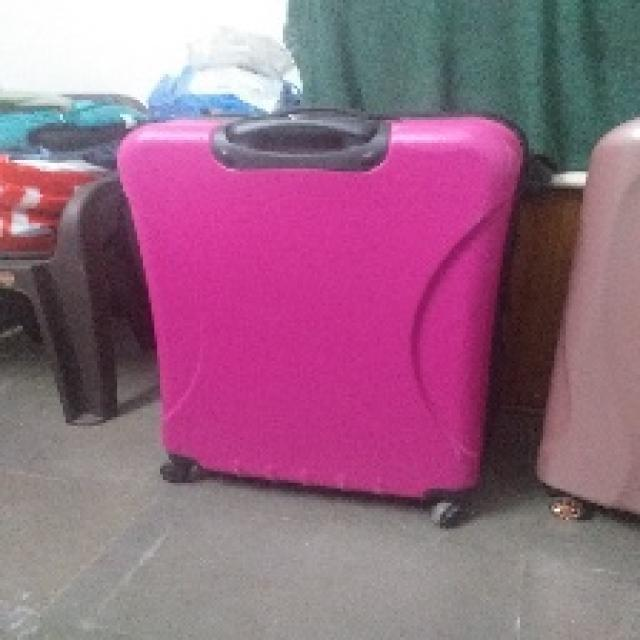Suitcase: (116, 104, 525, 530), (539, 103, 640, 529)
